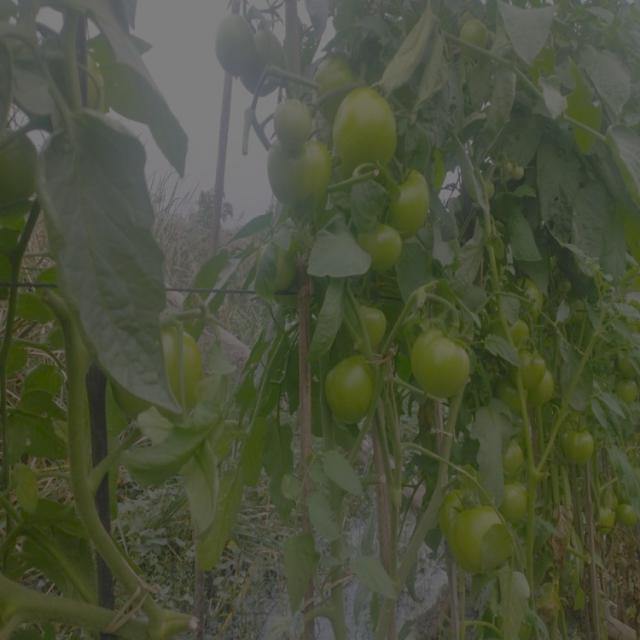tomato: (217, 13, 281, 91), (337, 97, 401, 173), (443, 510, 513, 573), (269, 142, 328, 214), (412, 329, 469, 399), (320, 354, 376, 419), (502, 351, 555, 413), (1, 130, 47, 199), (162, 327, 204, 401), (383, 174, 436, 231), (259, 245, 300, 297), (355, 235, 408, 270), (273, 95, 312, 139), (599, 494, 640, 534), (352, 305, 388, 348), (86, 56, 112, 110), (459, 17, 488, 59), (520, 277, 549, 319), (316, 62, 357, 90), (564, 431, 594, 467), (500, 438, 522, 478), (506, 157, 527, 187), (618, 382, 640, 406), (511, 324, 535, 344), (506, 485, 528, 506), (443, 491, 473, 506), (478, 178, 496, 201)
